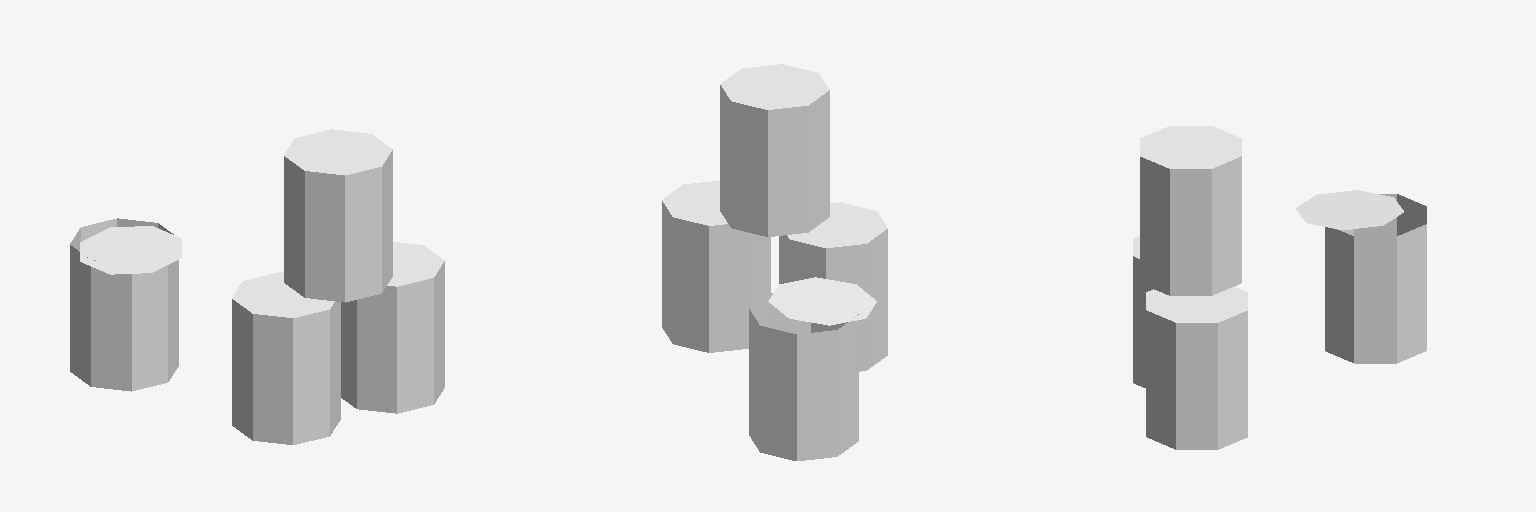
The model's file is assorted_metal_cans_4.obj.
3 renders of one model, left to right at view 1: azimuth 30°, elevation 25°; view 2: azimuth 150°, elevation 25°; view 3: azimuth 270°, elevation 25°, orthographic.
Parts seen in each view (by area): view 1: can_1, can_3, can_2, can_4, can_4_lid; view 2: can_1, can_4, can_2, can_3, can_4_lid; view 3: can_1, can_2, can_4, can_4_lid, can_3.
Part boxes in pixels (bbox=[...]): can_1: bbox=[284, 129, 392, 302]; can_3: bbox=[232, 272, 340, 444]; can_2: bbox=[341, 242, 444, 413]; can_4: bbox=[70, 218, 178, 391]; can_4_lid: bbox=[80, 226, 181, 274]; can_1: bbox=[720, 64, 829, 236]; can_4: bbox=[749, 293, 858, 460]; can_2: bbox=[662, 180, 770, 352]; can_3: bbox=[779, 202, 887, 371]; can_4_lid: bbox=[768, 277, 876, 325]; can_1: bbox=[1140, 126, 1241, 295]; can_2: bbox=[1146, 287, 1247, 449]; can_4: bbox=[1325, 194, 1426, 363]; can_4_lid: bbox=[1295, 190, 1403, 229]; can_3: bbox=[1133, 236, 1234, 387].
Size of the model in its own units: 0.7759 by 0.6875 by 0.7188.